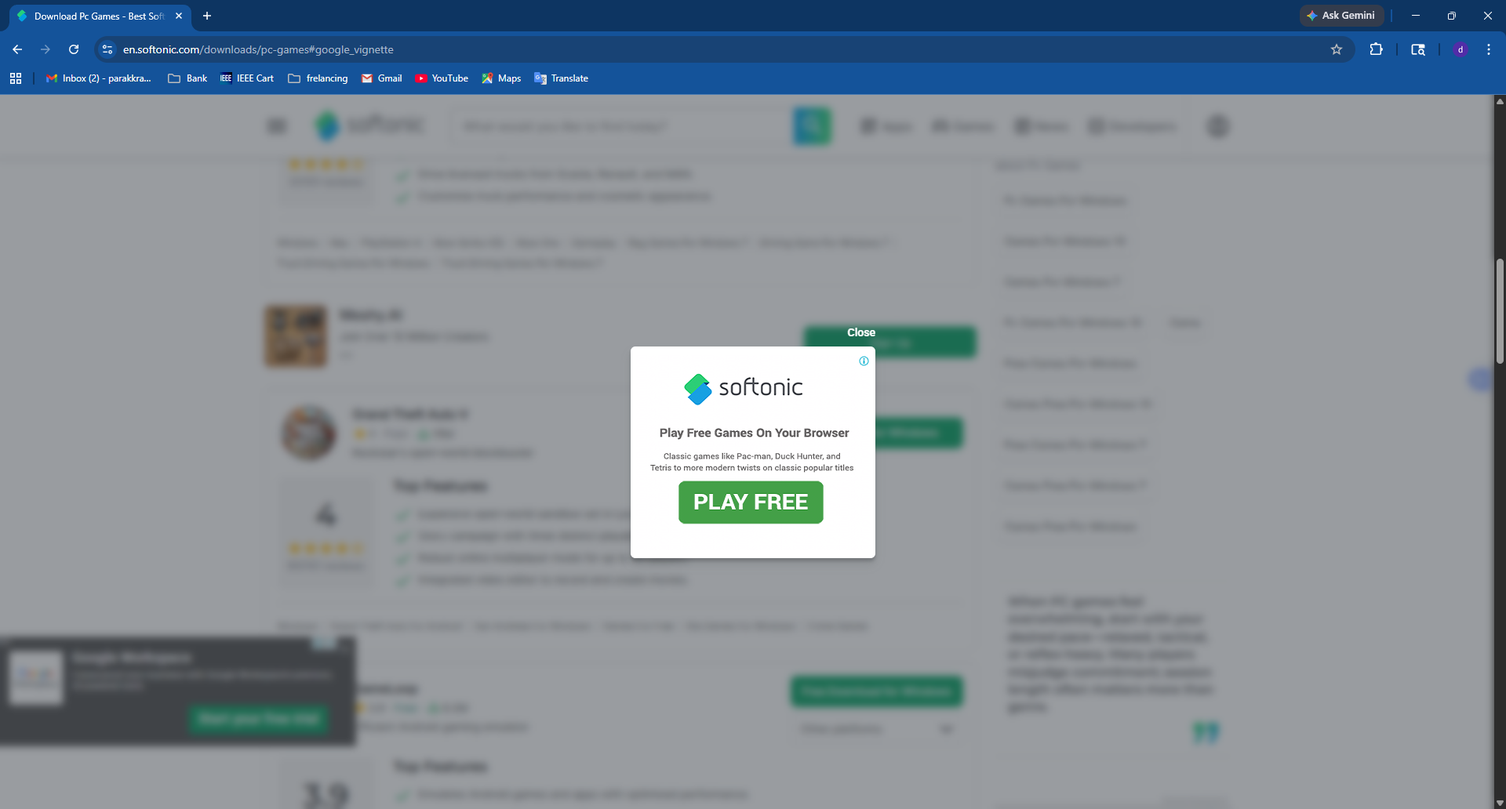fake_button: (663, 473, 828, 533)
